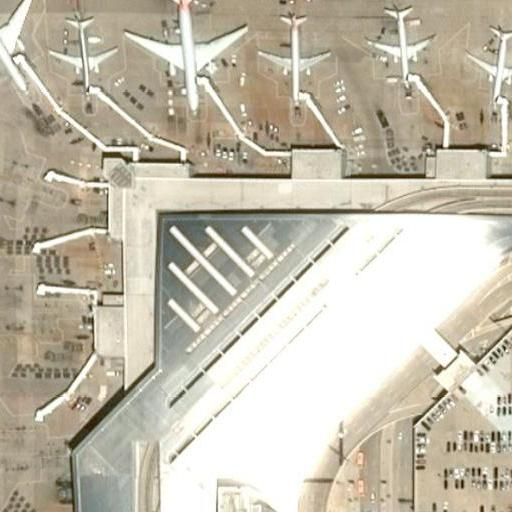Aircraft: (122, 0, 248, 112), (258, 14, 330, 100), (367, 5, 431, 85), (48, 15, 112, 93), (462, 24, 512, 105), (0, 0, 34, 94)
